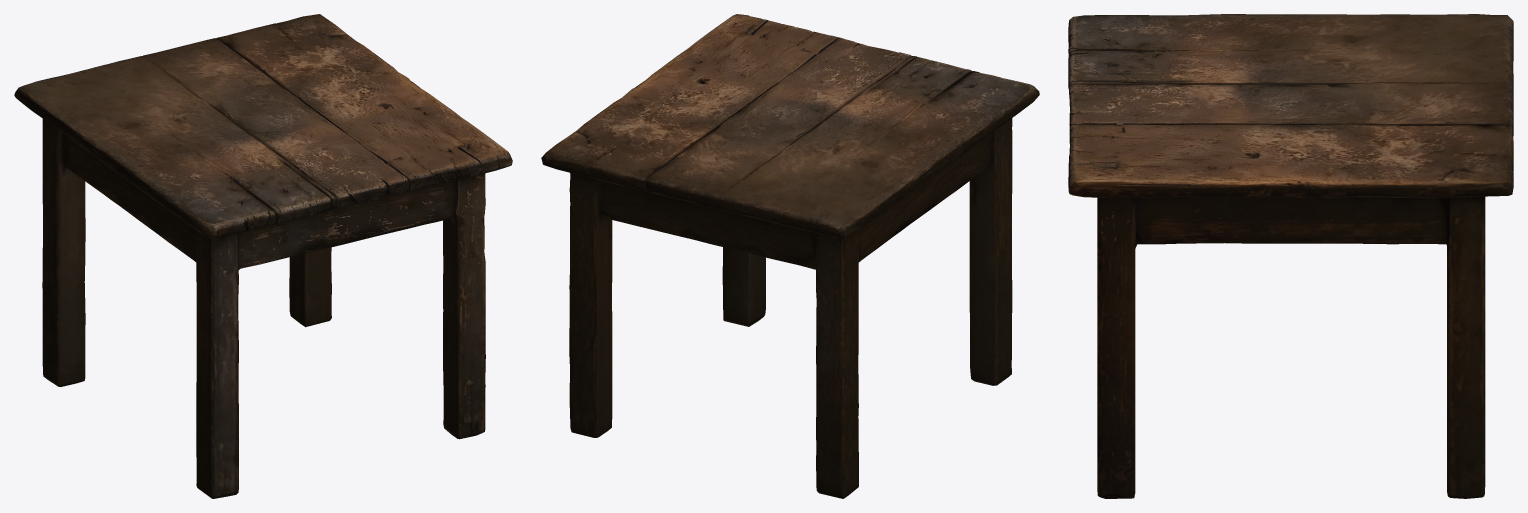
Rendered from MESA.fbx.
3 views of the same model, side by side, from view 1: azimuth 30°, elevation 25°; view 2: azimuth 150°, elevation 25°; view 3: azimuth 270°, elevation 25° (orthographic). The views are drawn at different scales.
Parts seen in each view (by area): view 1: tripo_node_6323bfaa-5c41-444b-a64a-d3facbfec1f5; view 2: tripo_node_6323bfaa-5c41-444b-a64a-d3facbfec1f5; view 3: tripo_node_6323bfaa-5c41-444b-a64a-d3facbfec1f5.
Boxes of the visible parts, <box> form: tripo_node_6323bfaa-5c41-444b-a64a-d3facbfec1f5: <box>14,14,512,498</box>; tripo_node_6323bfaa-5c41-444b-a64a-d3facbfec1f5: <box>541,14,1039,498</box>; tripo_node_6323bfaa-5c41-444b-a64a-d3facbfec1f5: <box>1068,14,1513,498</box>.
Bounding box in the file's own units: 0.9044 × 0.8073 × 1.
Materials: 1 (1 with a texture image).
